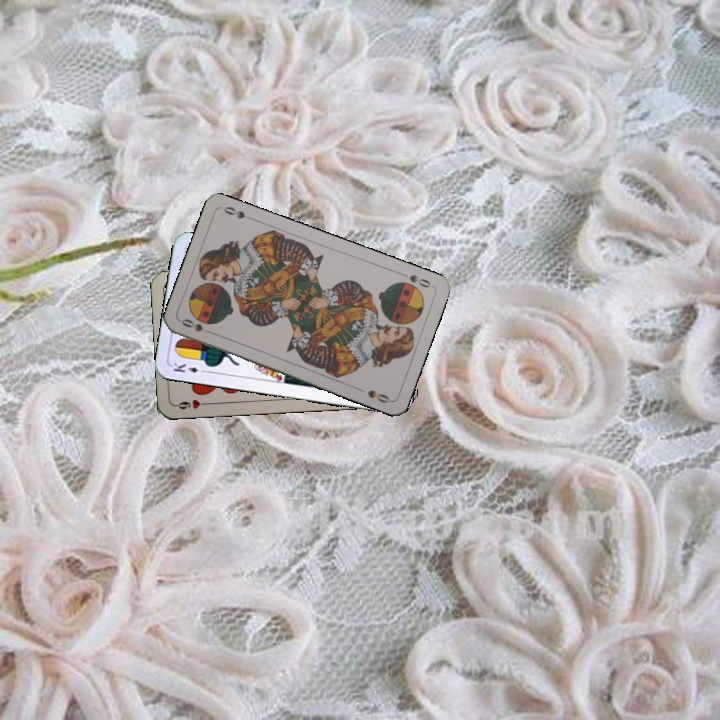EK: (169, 359, 210, 376)
H9: (172, 396, 213, 412)
SO: (177, 315, 216, 337), (396, 269, 435, 290)
